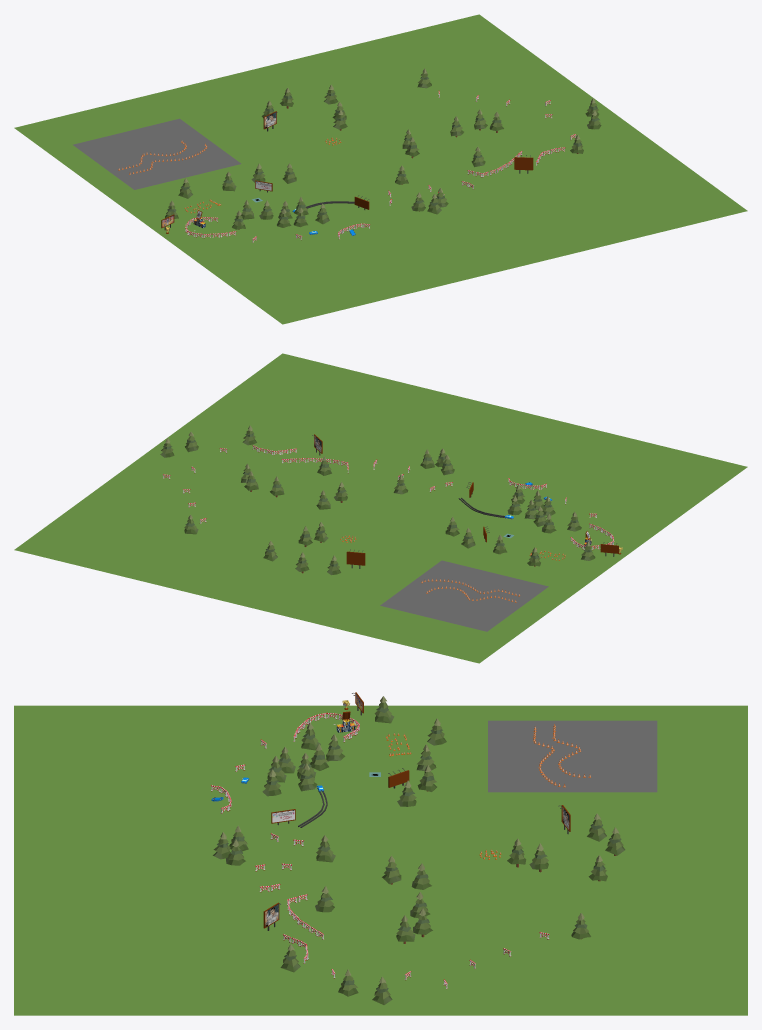
Rendered from SlightlyHarderEnvironment.obj.
3 renders of one model, top to bottom at view 1: azimuth 30°, elevation 25°; view 2: azimuth 150°, elevation 25°; view 3: azimuth 270°, elevation 25°, orthographic. The views are drawn at different scales.
Parts seen in each view (by area): view 1: Ground, Plane.001; view 2: Ground, Plane.001; view 3: Ground, Plane.001.
Boxes of the visible parts, box(x1,y1,x2,y2) form: Ground: box(14, 14, 747, 324); Plane.001: box(73, 118, 241, 189); Ground: box(14, 353, 747, 663); Plane.001: box(380, 560, 548, 631); Ground: box(14, 705, 747, 1015); Plane.001: box(488, 720, 657, 792).
Size of the model in its own units: 717 by 33.49 by 717.
